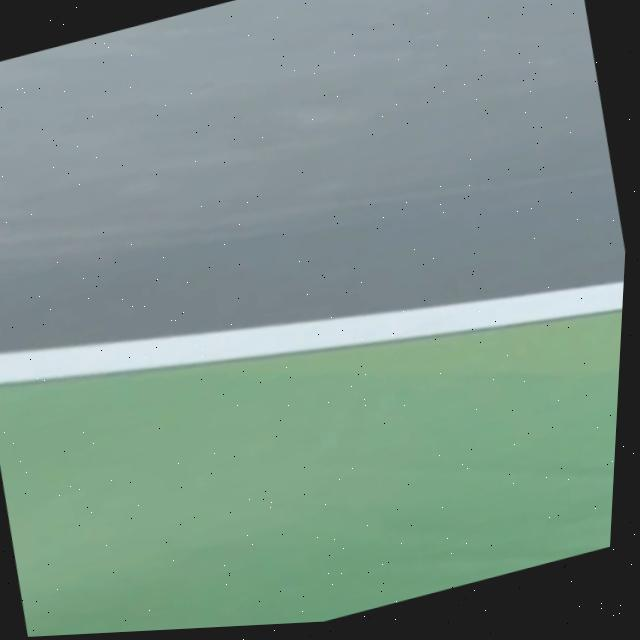right: (0, 279, 624, 381)
